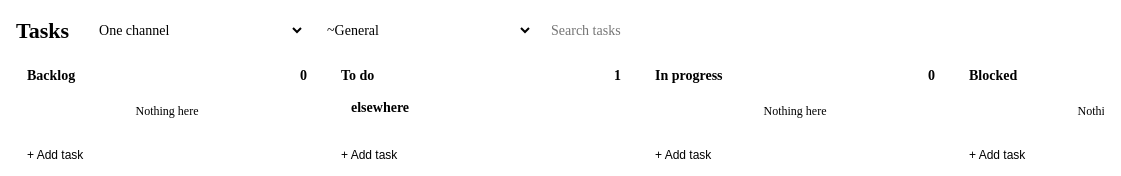
Test case: BoardPage › switches to the cross-channel scope and shows channel names
This screenshot has width=1121, height=176.
Check: the text "elsewhere" is shown, box [351, 100, 409, 115]
Check: the text "~Ops" is not shown
Step 1. Select "All my channels" in the dropdown named "Scope" → (195, 30), box [85, 16, 305, 45]
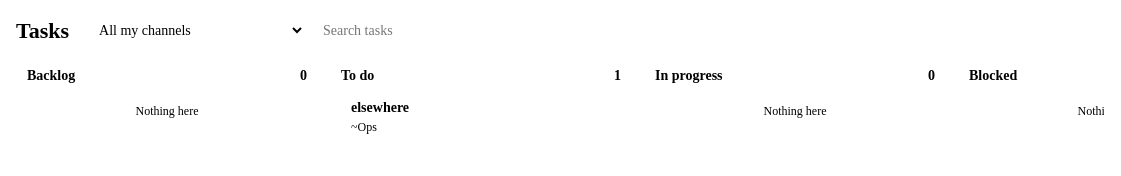
Check: the text "~Ops" is shown, box [351, 120, 377, 135]
Check: the button "+ Add task" is gone
